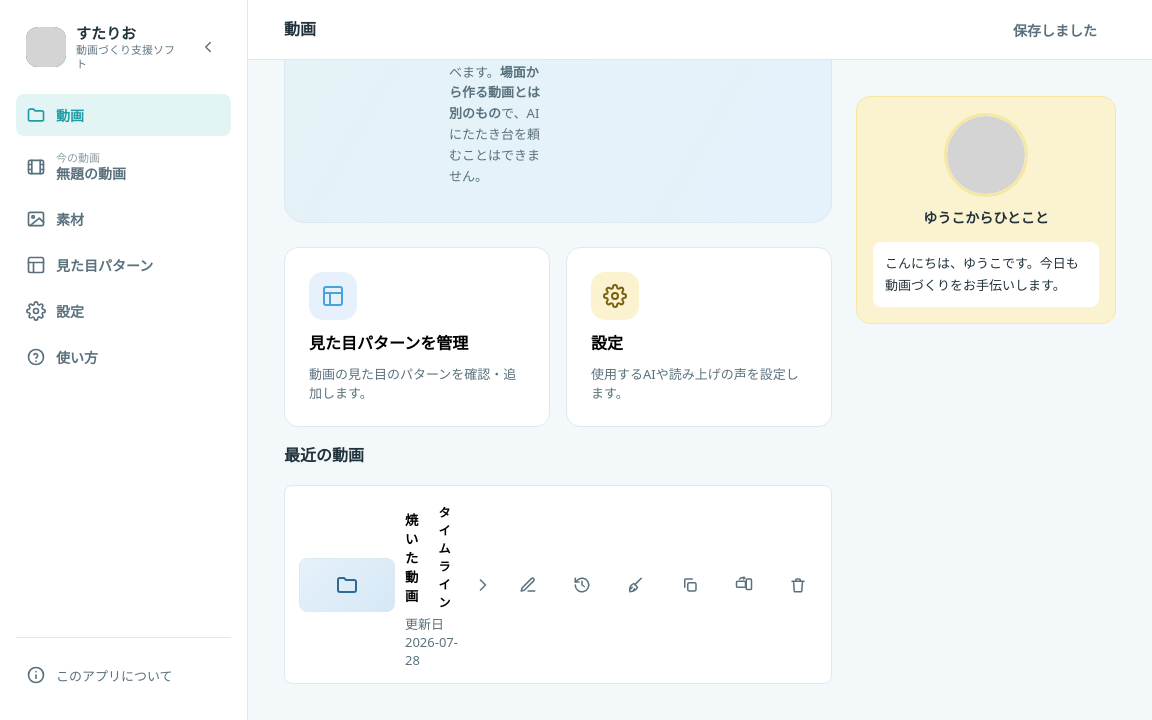
it: タイムライン編集の画面には場面形式の保存バーを出さない（#629 /canon-check 🔴） › 一覧から開くと専用画面になり、共通トップバー（保存・保存状態）が出ない
(page scrolled)
Expected: the header with class "topbar" is shown, [248,0,1151,60]
Click the text "焼いた動画".
click(412, 557)  # box [405,510,418,605]
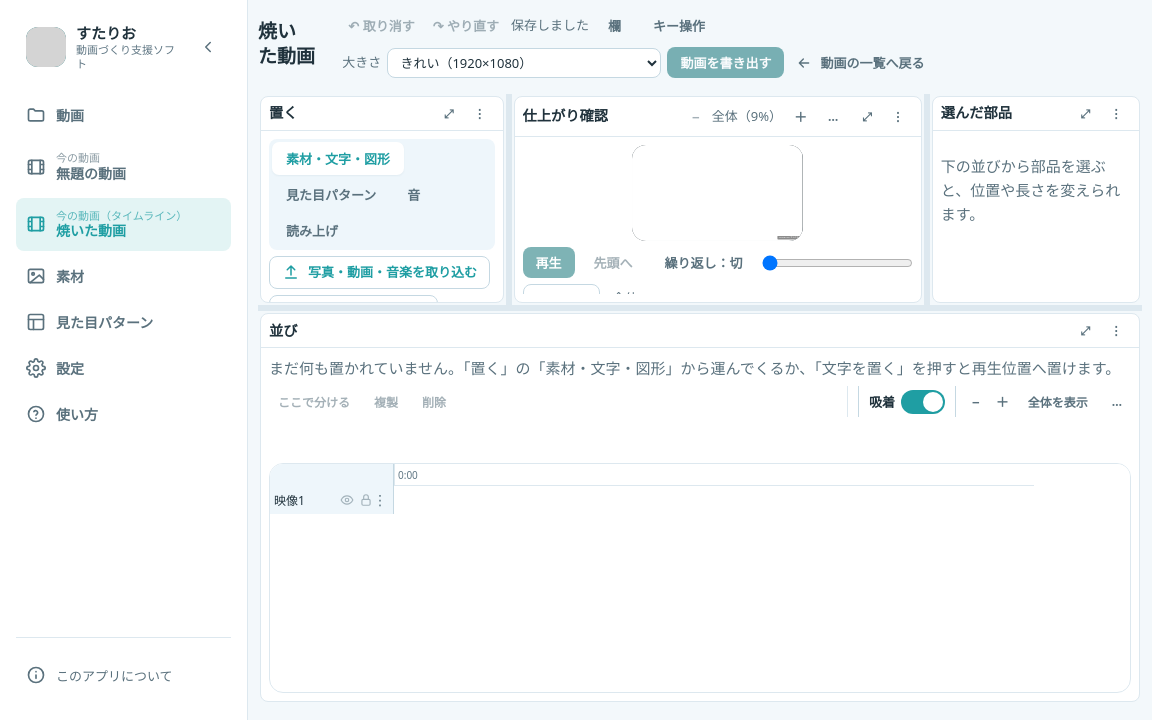
Expected: the header with class "topbar" is gone
